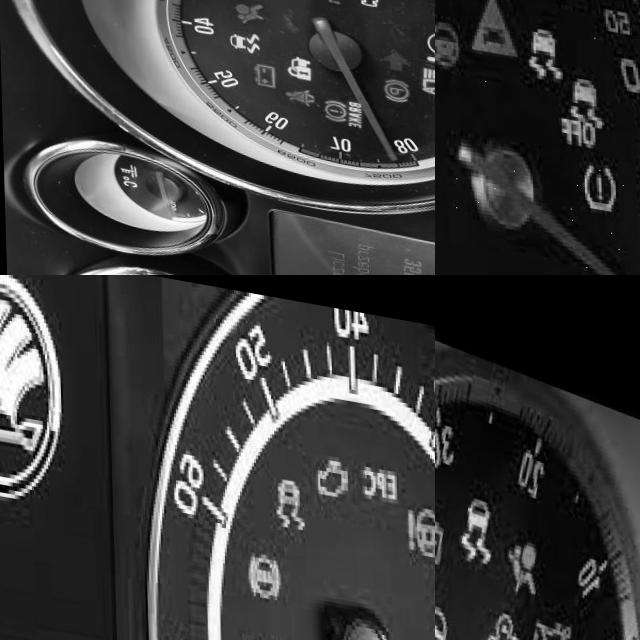Electronic Power Steering: (403, 484, 435, 544), (414, 8, 435, 55), (435, 588, 453, 640)
Electronic Power Steering Warning: (435, 9, 460, 63)
Seat Belt: (283, 74, 316, 97)
